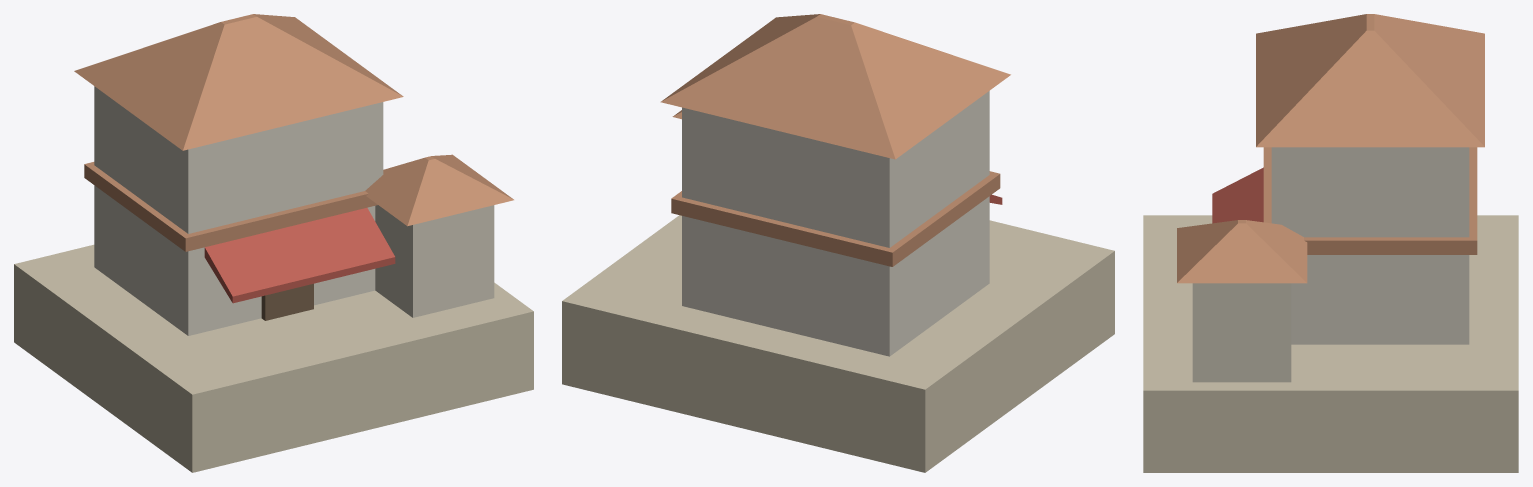
The model's file is house-classical-1.glb.
3 views of the same model, side by side, from view 1: azimuth 30°, elevation 25°; view 2: azimuth 150°, elevation 25°; view 3: azimuth 270°, elevation 25° (orthographic). The views are drawn at different scales.
Visible parts, largest first — view 1: LOD0; view 2: LOD0; view 3: LOD0.
Boxes of the visible parts, x1,y1,x2,y2 form: LOD0: (14, 14, 533, 472); LOD0: (562, 14, 1114, 472); LOD0: (1143, 14, 1518, 472).
Size of what is drawn, in the model's own units: 0.21 by 0.198 by 0.19.
